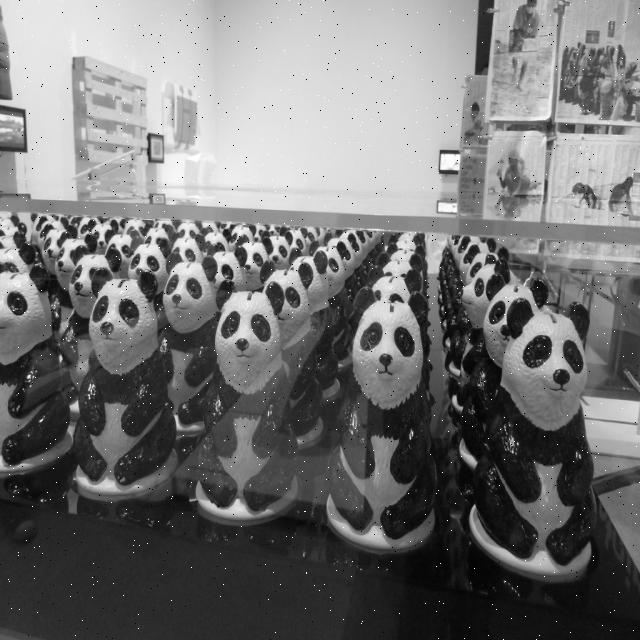panda: (0, 205, 600, 588)
